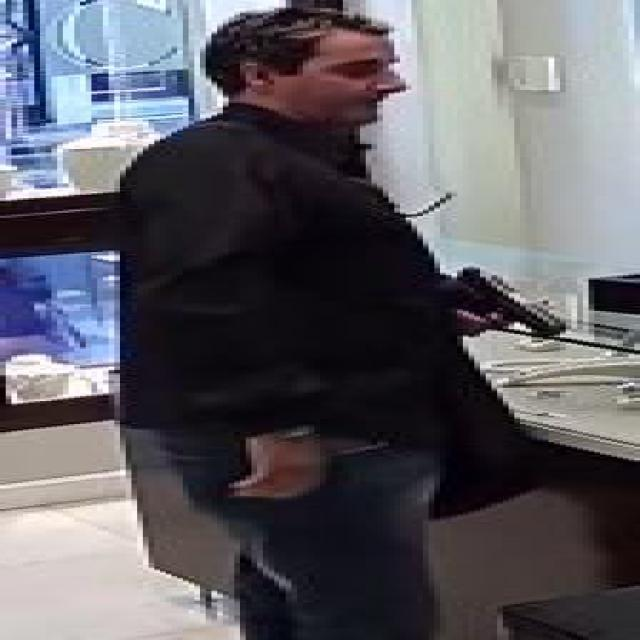Gun: (439, 264, 572, 338)
